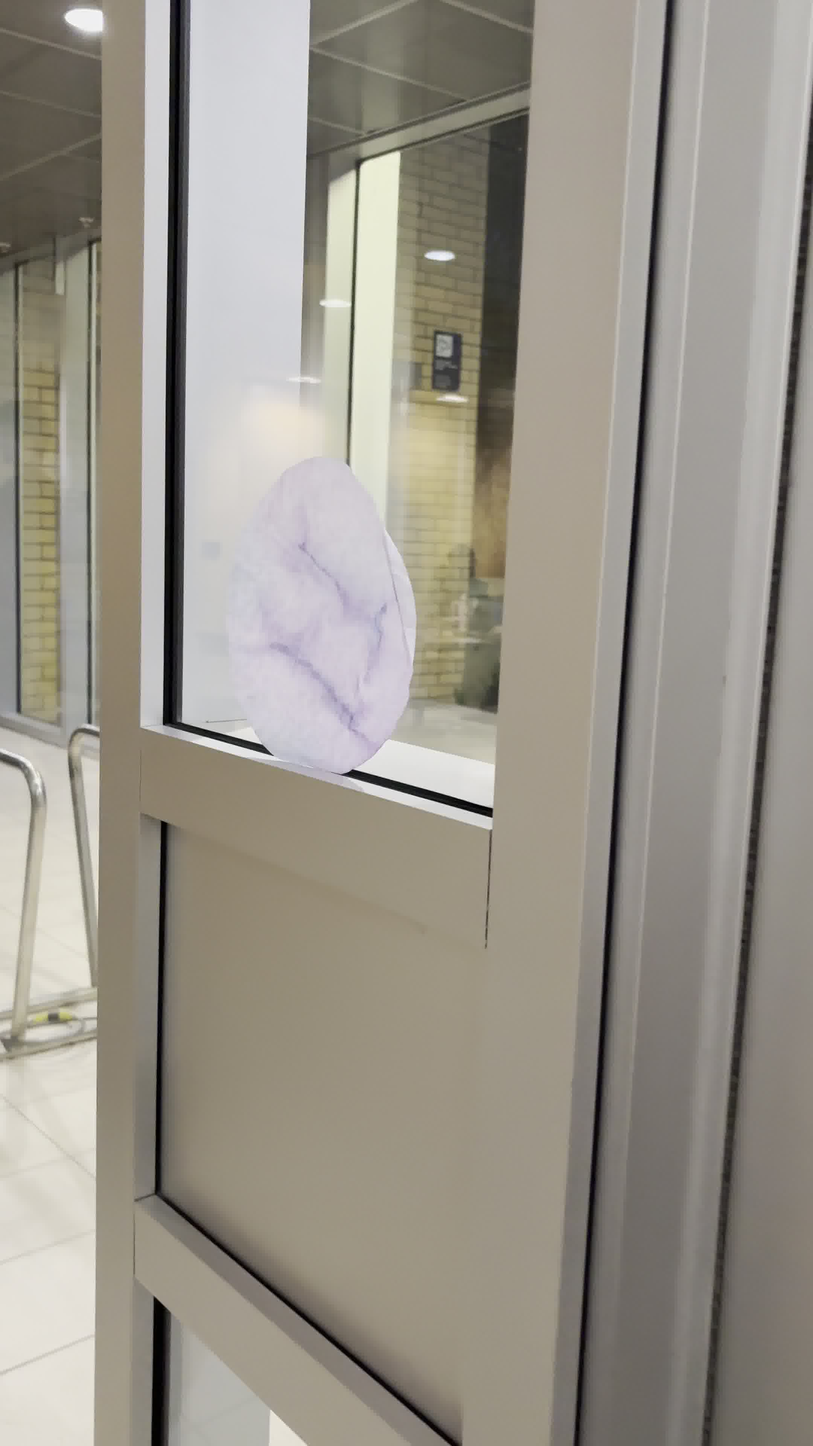Target: (227, 452, 419, 780)
